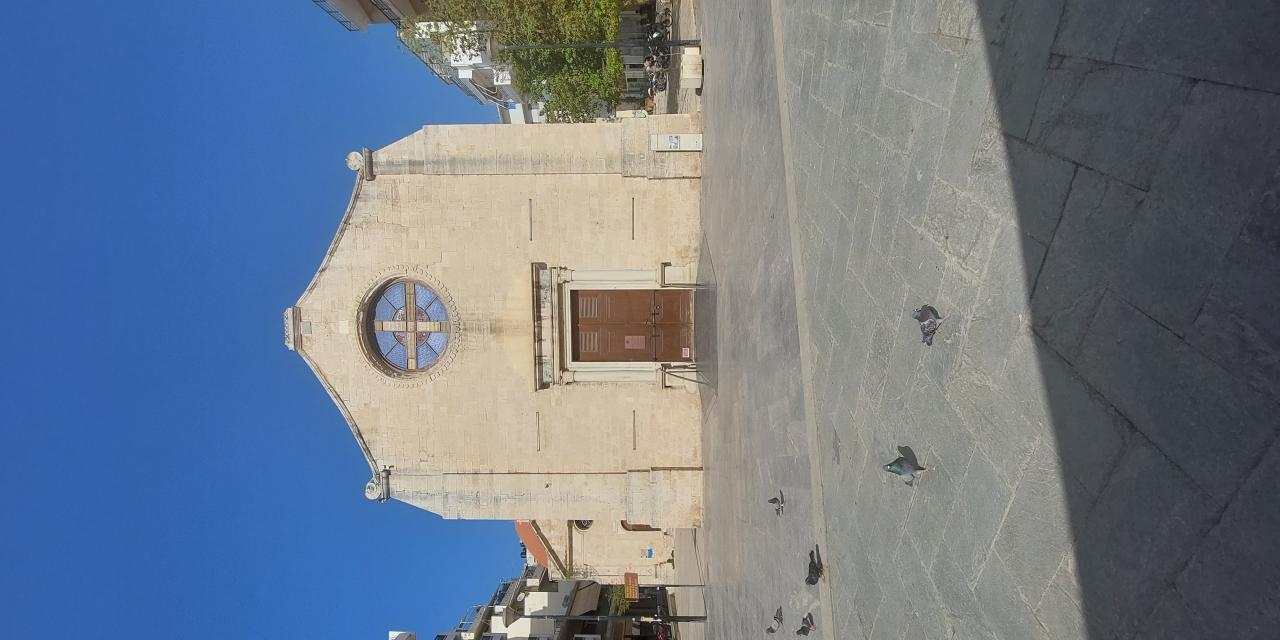Agia Aikaterini: (95, 301, 475, 640)
